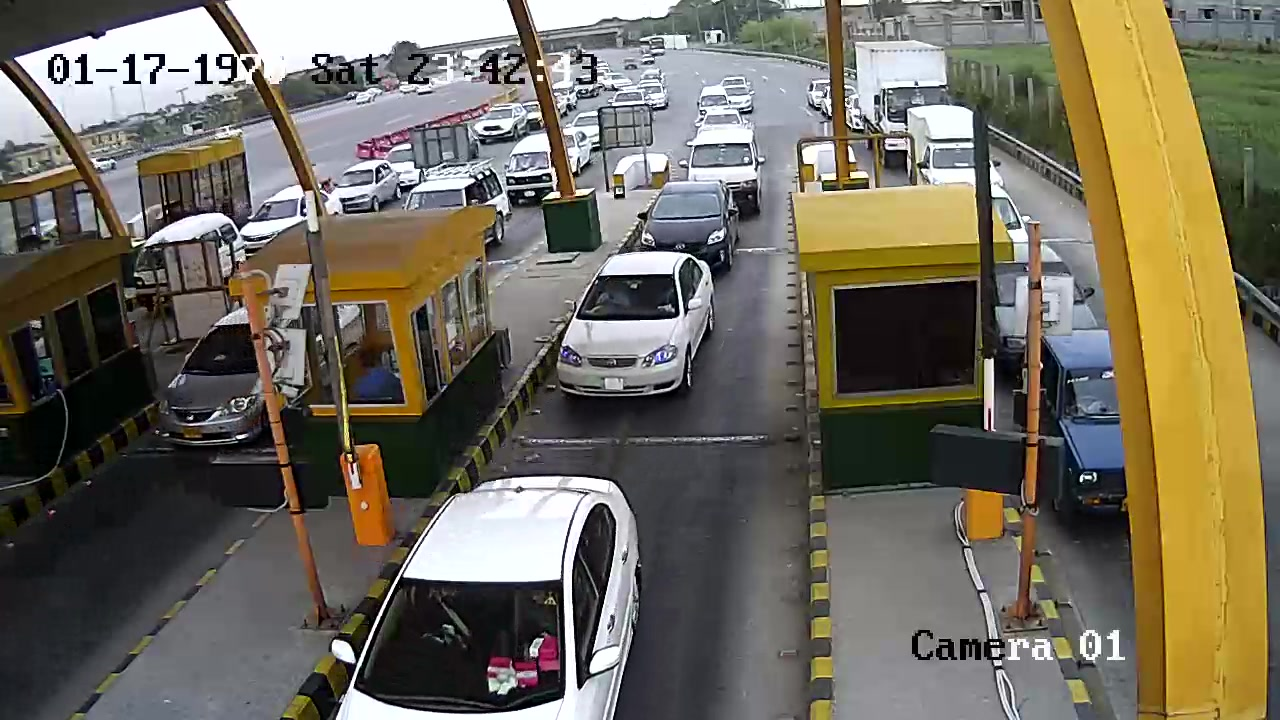F1: (544, 246, 737, 407)
